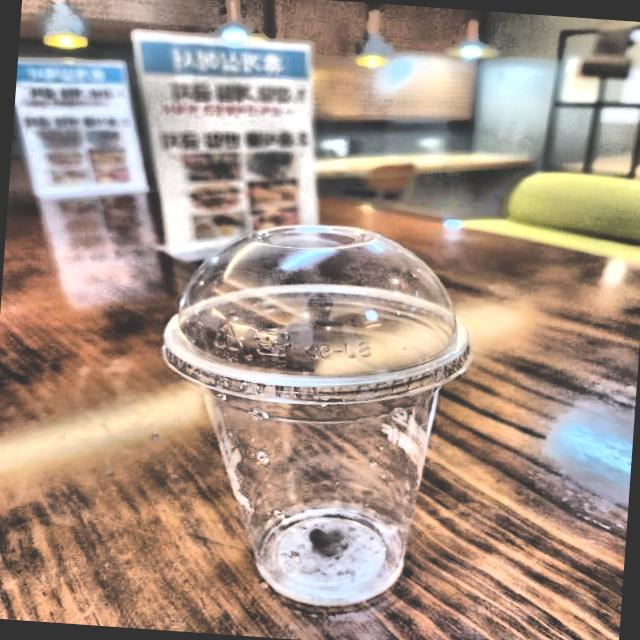plastic cup: (106, 178, 519, 640)
